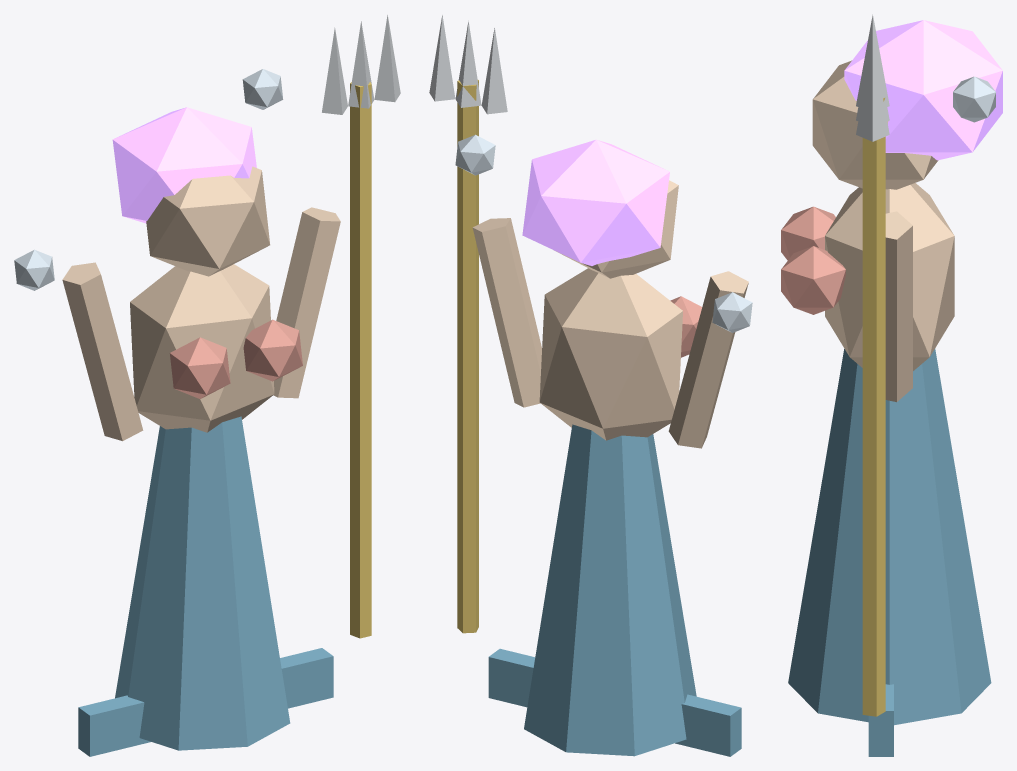
The model's file is npc_mermaid.glb.
The picture shows the model from 3 angles, left to right: view 1: azimuth 30°, elevation 25°; view 2: azimuth 150°, elevation 25°; view 3: azimuth 270°, elevation 25°; orthographic projection. The views are drawn at different scales.
Visible parts, largest first — view 1: tail.001, torso.009, trident, hair, head.009, arm_0.009, arm_1.009, fin_-1, shell_0.001, shell_1.001, fin_1, bubble_0 (+4 smaller); view 2: tail.001, torso.009, hair, trident, arm_1.009, arm_0.009, fin_-1, fin_1, head.009, bubble_0, bubble_1, tine_0 (+3 smaller); view 3: tail.001, trident, hair, torso.009, head.009, arm_1.009, shell_1.001, shell_0.001, tine_2, bubble_1, fin_1, tine_0 (+1 smaller).
Part boxes in pixels (x1,y1,x2,y2): tail.001: [115, 416, 290, 750]; torso.009: [130, 264, 274, 432]; trident: [350, 82, 371, 638]; hair: [112, 107, 256, 223]; head.009: [146, 166, 270, 276]; arm_0.009: [62, 262, 143, 441]; arm_1.009: [273, 207, 340, 398]; fin_-1: [78, 695, 150, 756]; shell_0.001: [169, 337, 230, 398]; shell_1.001: [243, 319, 302, 381]; fin_1: [280, 648, 333, 708]; bubble_0: [14, 249, 54, 290]; tail.001: [524, 424, 696, 756]; torso.009: [539, 268, 682, 440]; hair: [522, 139, 669, 265]; trident: [457, 80, 478, 633]; arm_1.009: [472, 218, 541, 407]; arm_0.009: [668, 271, 748, 448]; fin_-1: [675, 694, 741, 756]; fin_1: [488, 648, 535, 707]; head.009: [554, 180, 678, 278]; bubble_0: [712, 292, 752, 332]; bubble_1: [455, 134, 495, 175]; tine_0: [481, 28, 507, 114]; tail.001: [788, 348, 991, 725]; trident: [862, 98, 885, 716]; hair: [844, 20, 1002, 160]; torso.009: [825, 183, 954, 370]; head.009: [812, 60, 938, 189]; arm_1.009: [885, 211, 912, 402]; shell_1.001: [781, 246, 845, 314]; shell_0.001: [781, 206, 835, 260]; tine_2: [856, 43, 889, 141]; bubble_1: [953, 76, 995, 122]; fin_1: [868, 684, 893, 756]; tine_0: [856, 14, 889, 106].
Size of the model in its own units: 1.07 by 1.94 by 0.5237.
